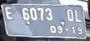plate: (1, 4, 86, 39)
